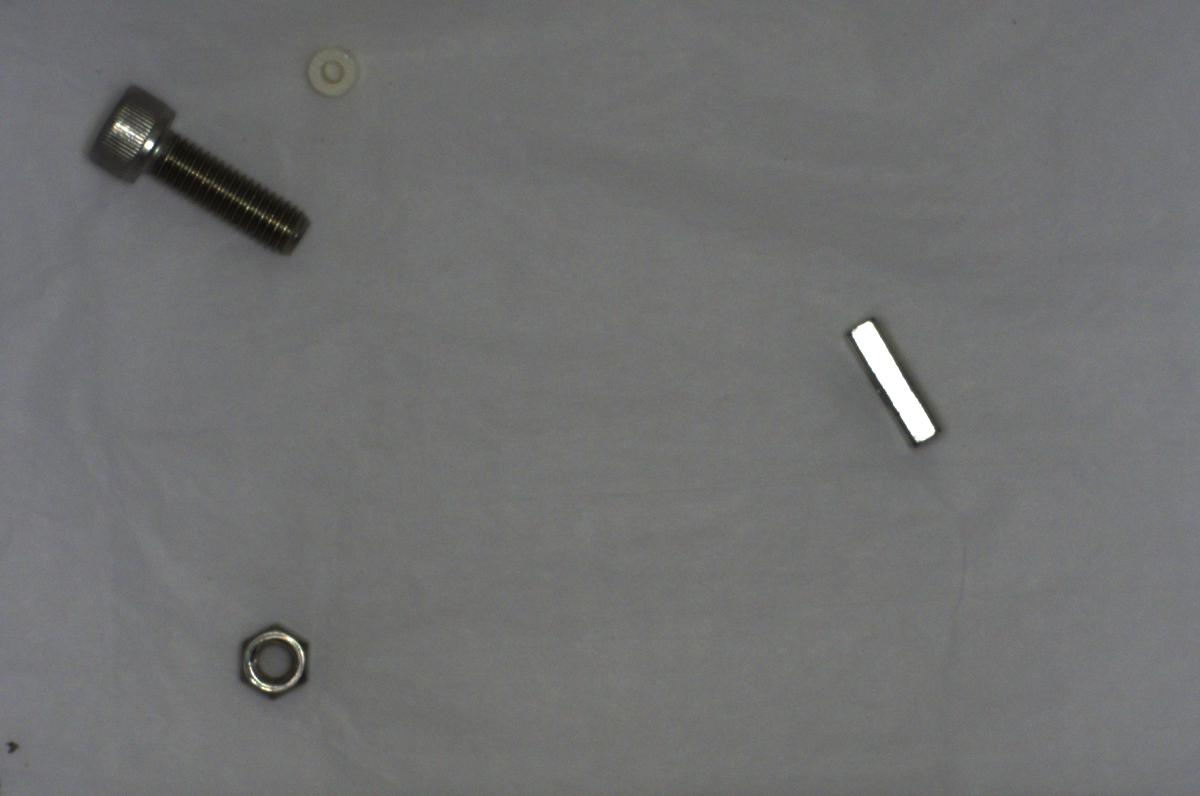Hexagon nut: (224, 614, 319, 707)
Hexagon screw: (90, 82, 312, 250)
Plastic cushion pillar: (302, 38, 360, 99)
Rectangular nut: (834, 310, 944, 453)
